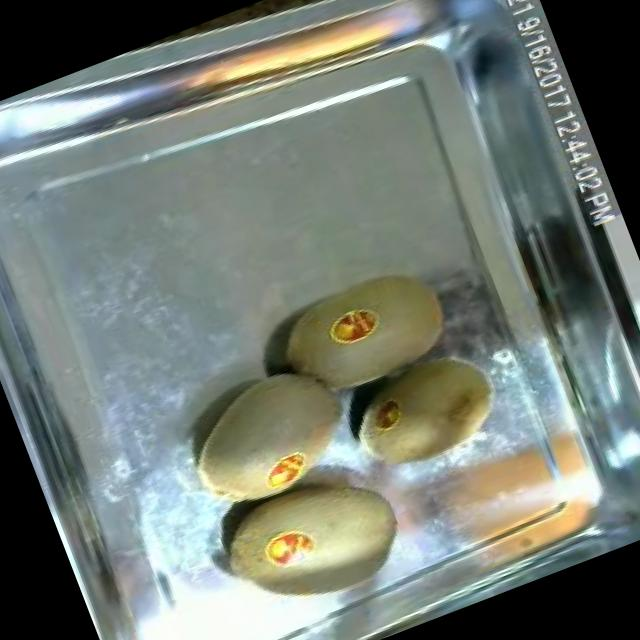Fruit: (158, 340, 378, 530), (255, 242, 476, 419), (326, 332, 524, 499)
